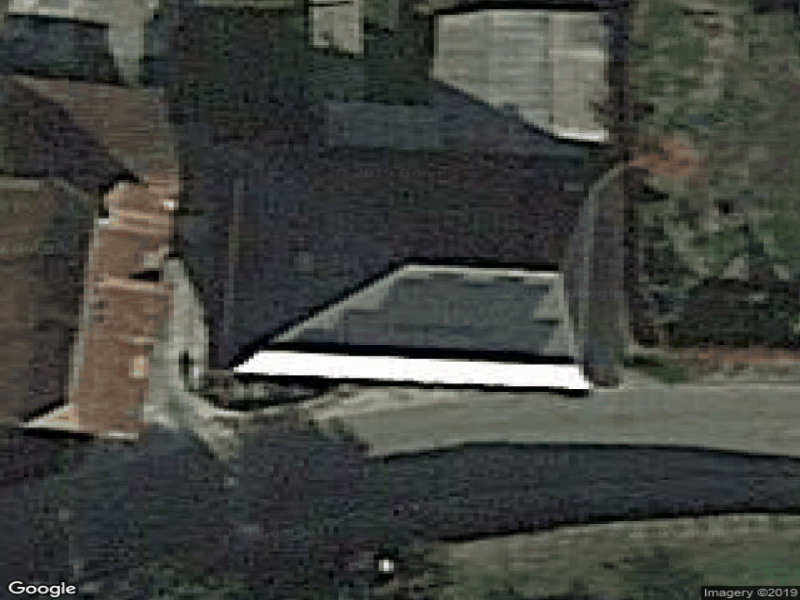pv: (298, 274, 560, 376)
